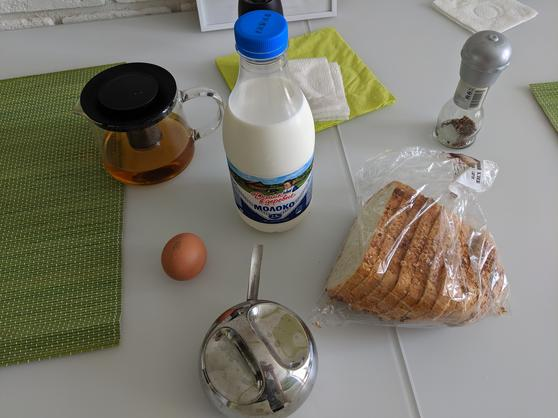egg: (161, 233, 207, 282)
milk: (224, 11, 317, 234)
white_bread: (329, 183, 513, 330)
